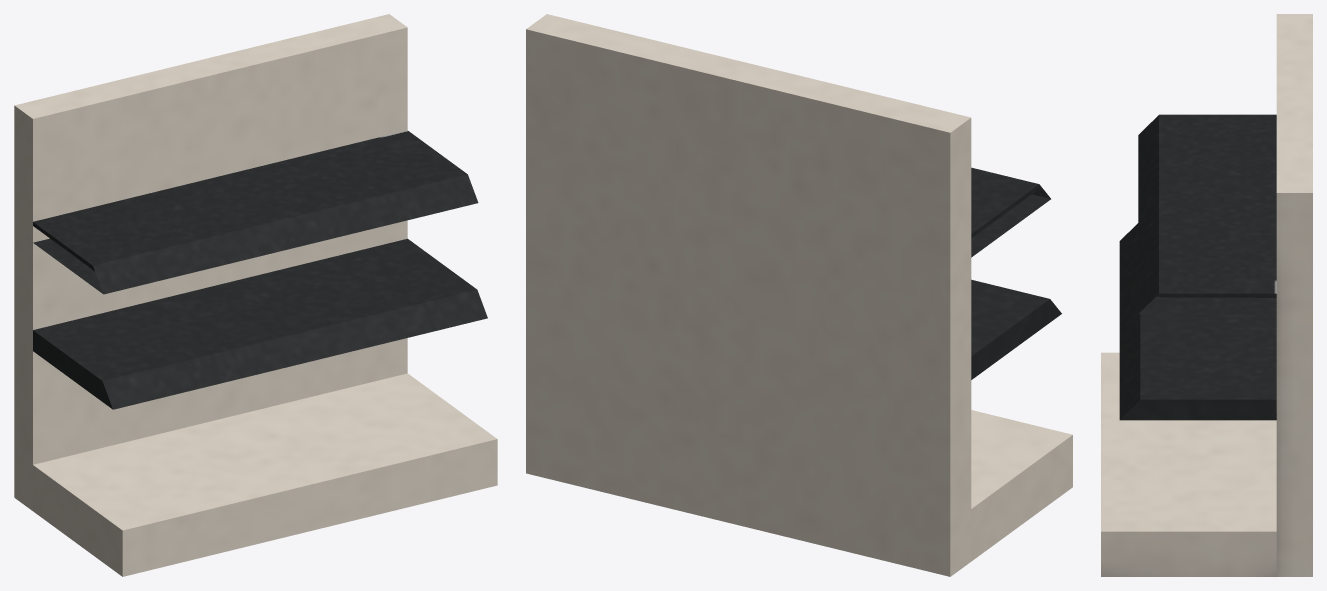
File: shelf_middle.fbx
3 views of the same model, side by side, from view 1: azimuth 30°, elevation 25°; view 2: azimuth 150°, elevation 25°; view 3: azimuth 270°, elevation 25° (orthographic). The views are drawn at different scales.
Visible parts, largest first — view 1: shelf_middle; view 2: shelf_middle; view 3: shelf_middle.
Part boxes in pixels (x1,y1,x2,y2): shelf_middle: [14, 14, 497, 576]; shelf_middle: [526, 14, 1072, 576]; shelf_middle: [1101, 14, 1312, 576].
Bounding box in the file's own units: 200 × 200 × 100.
